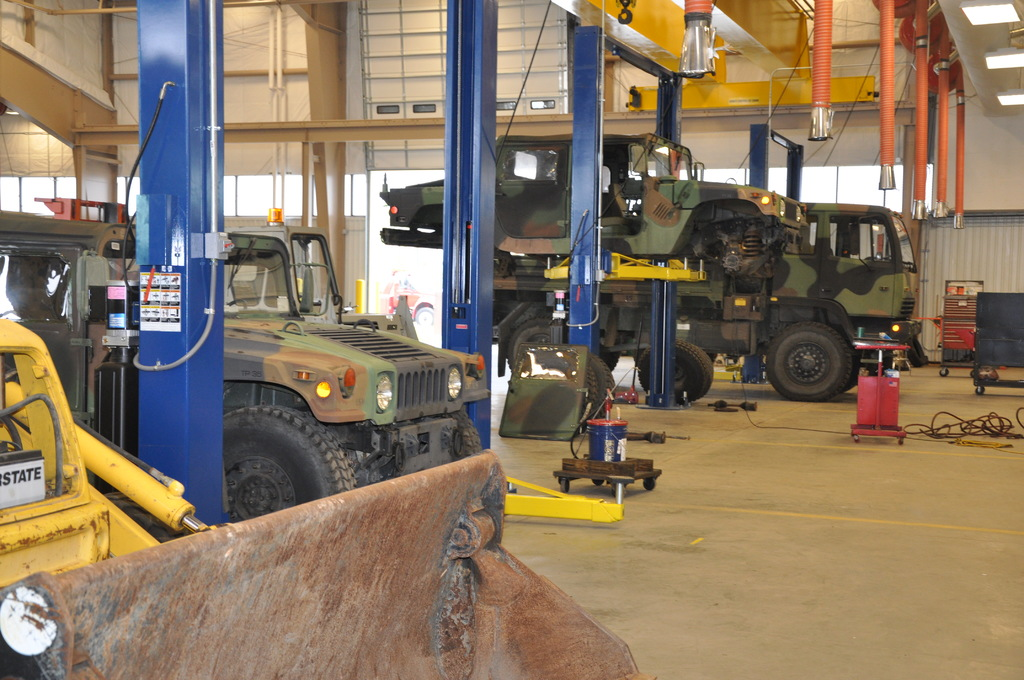car: (1, 187, 516, 531), (383, 116, 811, 254)
truck: (471, 201, 940, 402)
